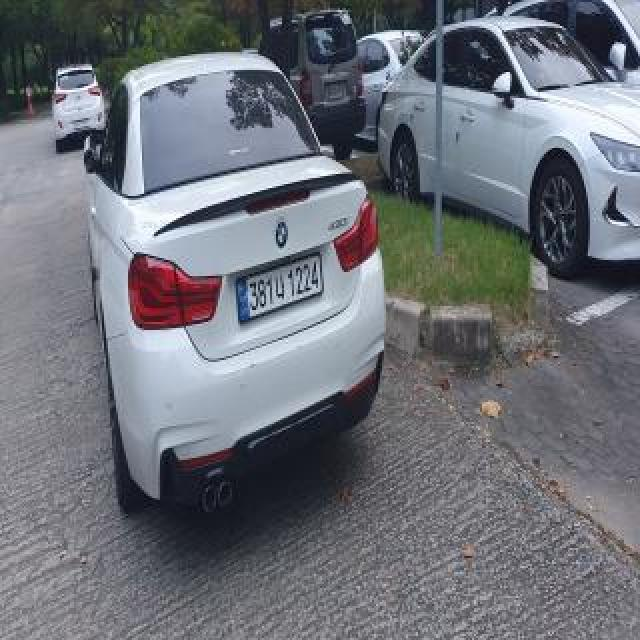car: (91, 51, 396, 524)
illegal_plate: (240, 252, 325, 327)
